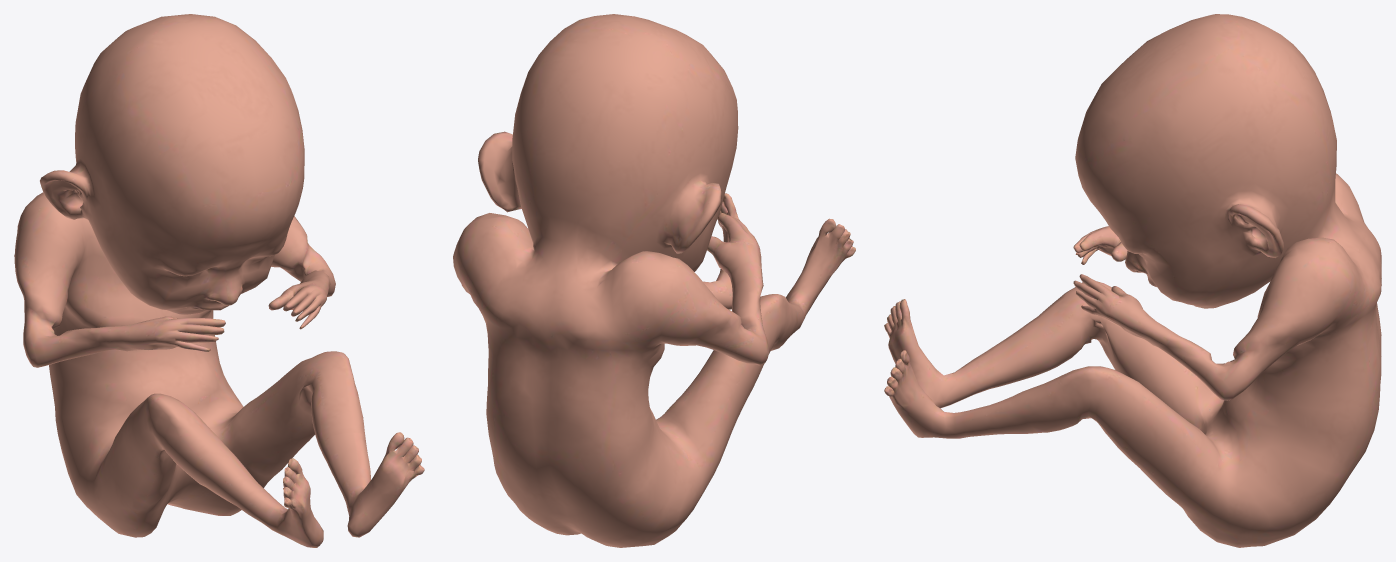
3 renders of one model, left to right at view 1: azimuth 30°, elevation 25°; view 2: azimuth 150°, elevation 25°; view 3: azimuth 270°, elevation 25°, orthographic.
Parts seen in each view (by area): view 1: Baby; view 2: Baby; view 3: Baby.
Part boxes in pixels (x1,y1,x2,y2): Baby: [14, 14, 424, 547]; Baby: [453, 14, 855, 547]; Baby: [884, 14, 1381, 547].
Size of the model in its own units: 0.136 by 0.2163 by 0.1948.
1 material, 1 textured.
